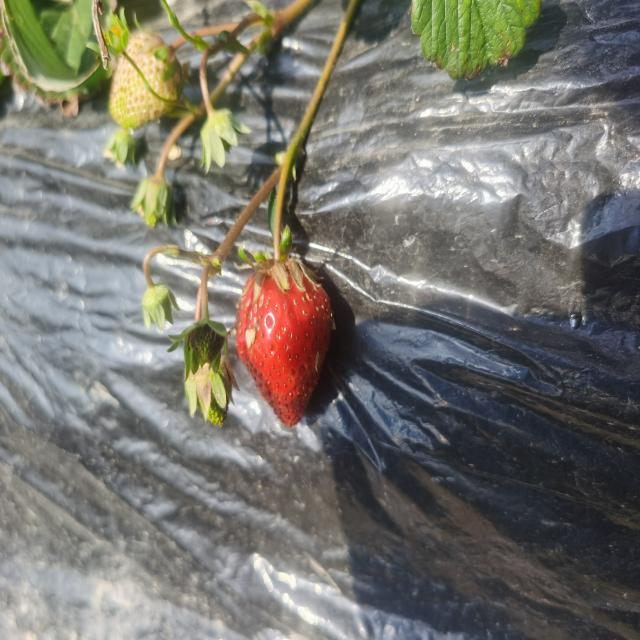stem: (274, 192, 284, 267)
strawberry: (236, 260, 331, 427)
